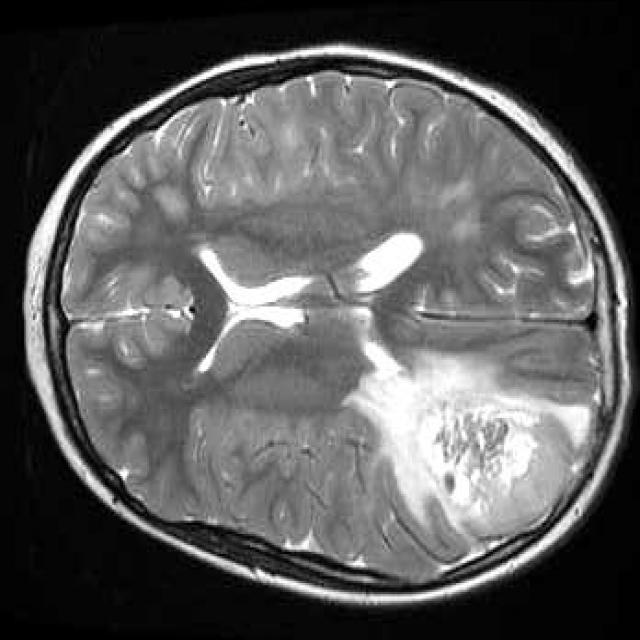tumor: (391, 371, 580, 533)
